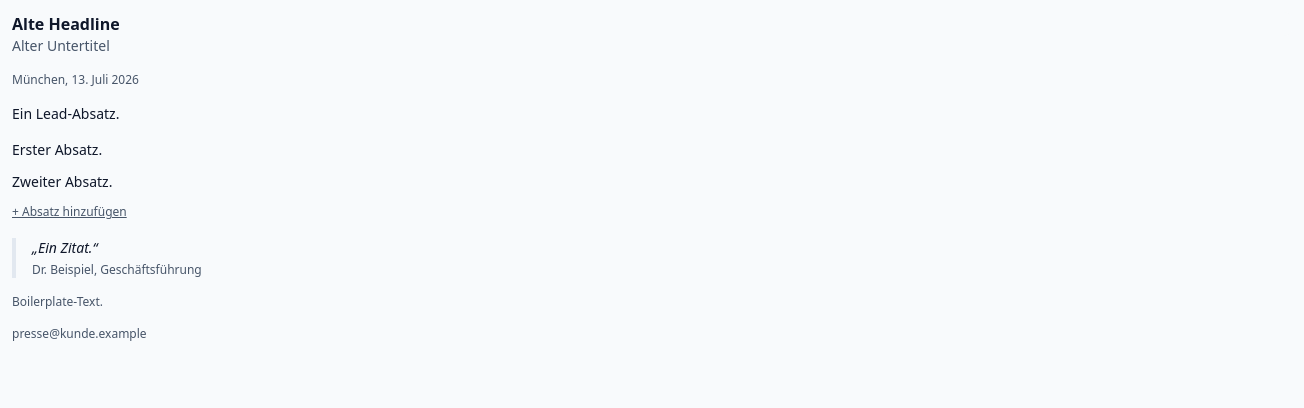
Test: PressemitteilungEditor -- Optimistic UI und Rollback › zeigt die Freigabe-Erläuterung, wenn die Server-Action freigabeErloschen=true meldet
The image size is (1304, 408).
Press Enter in the button with aria-label "Überschrift", box [12,12,1292,36]
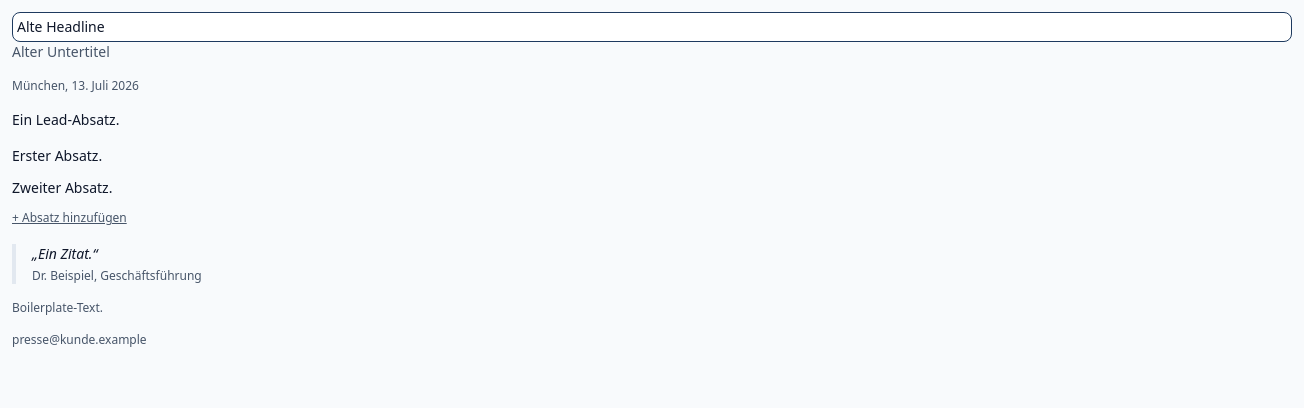
Replace the text in the field named "Überschrift" with "Neue Headline" at (652, 27), box [12,12,1292,42]
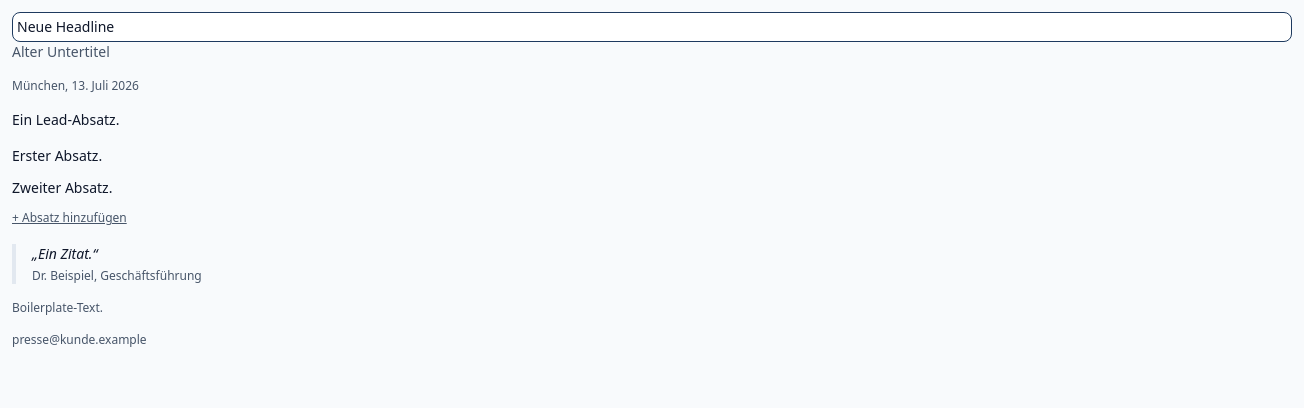
Press Enter in the field named "Überschrift", box [12,12,1292,42]
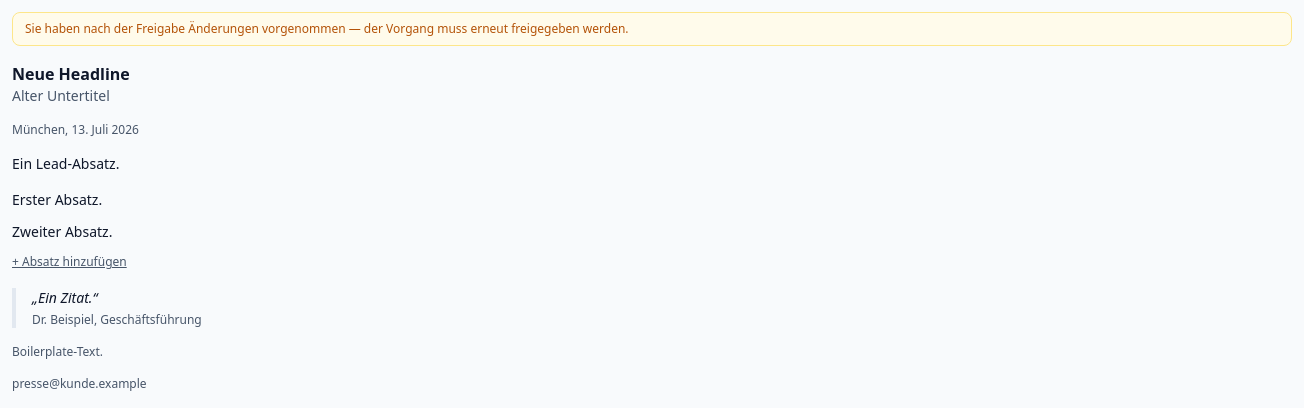
Expected: the text "muss erneut freigegeben werden" is shown, [25,20,629,37]
